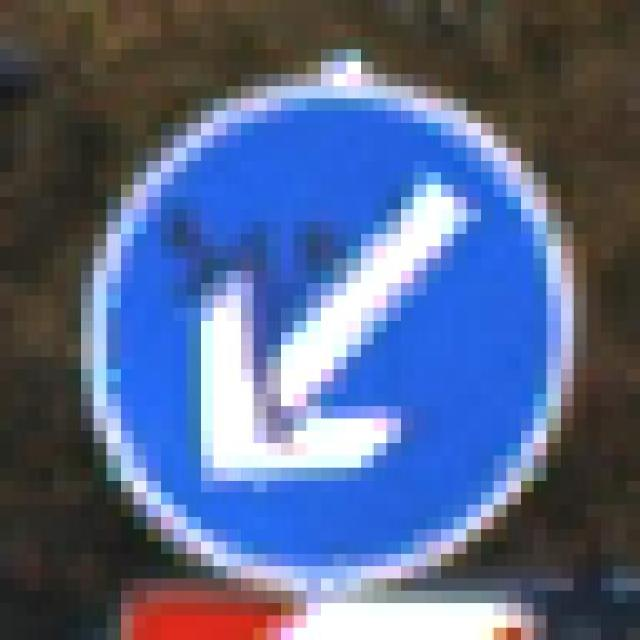Keep-Left: (40, 86, 600, 591)
